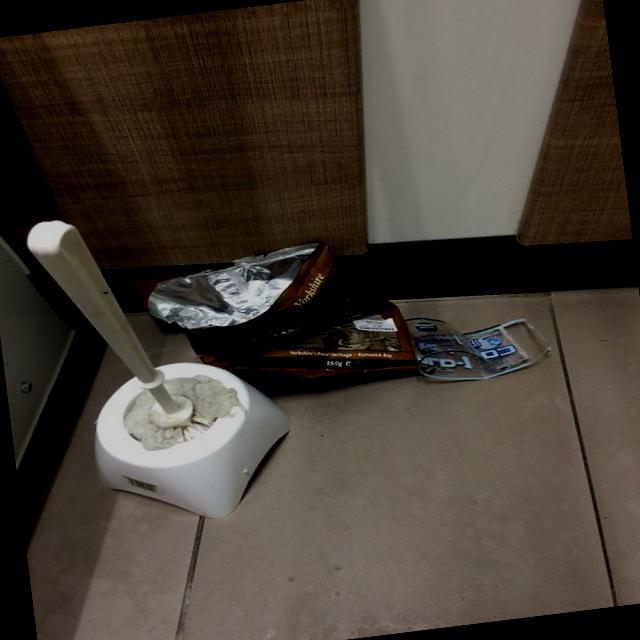Trash: (131, 223, 560, 427)
